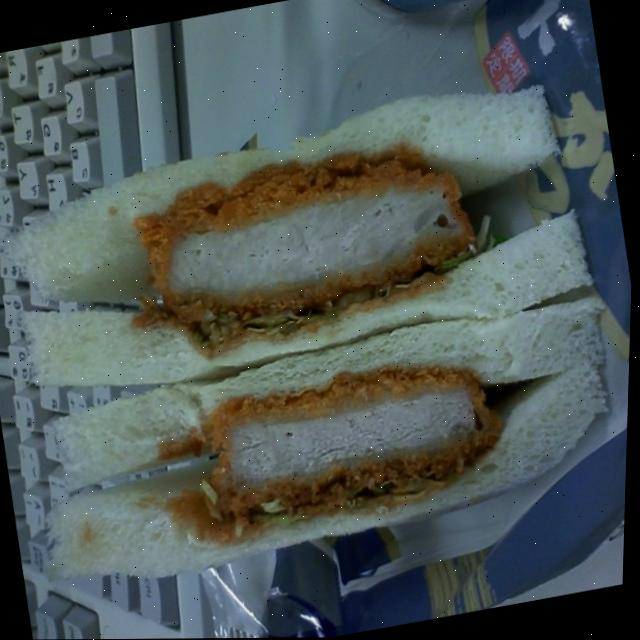三明治: (0, 52, 639, 602)
